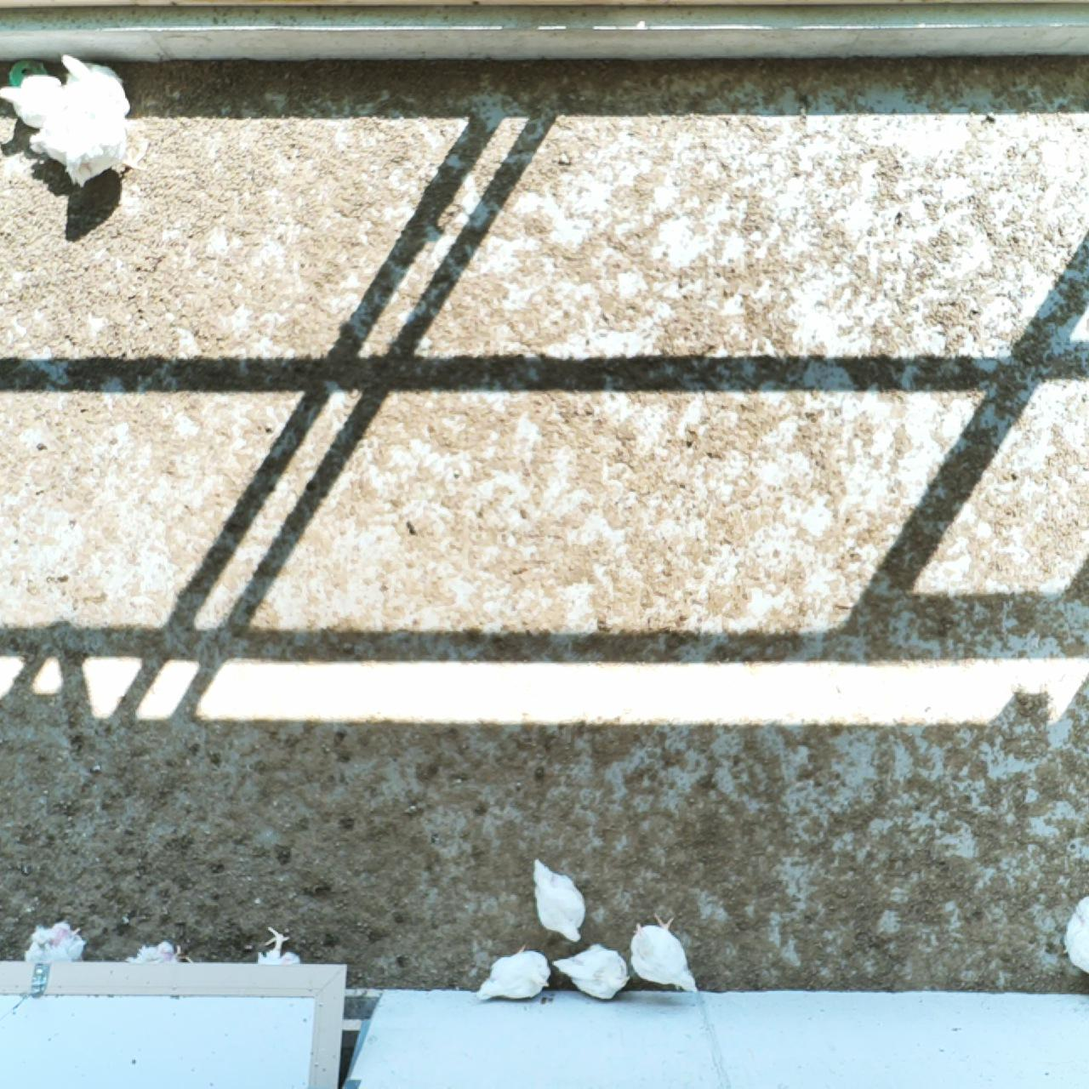chicken: (30, 103, 129, 188), (620, 911, 702, 996), (529, 848, 585, 942), (475, 941, 554, 1004), (550, 942, 631, 1003), (58, 58, 134, 120), (0, 69, 67, 133), (24, 921, 87, 984), (123, 936, 194, 988), (252, 922, 304, 988), (1059, 885, 1089, 982)
